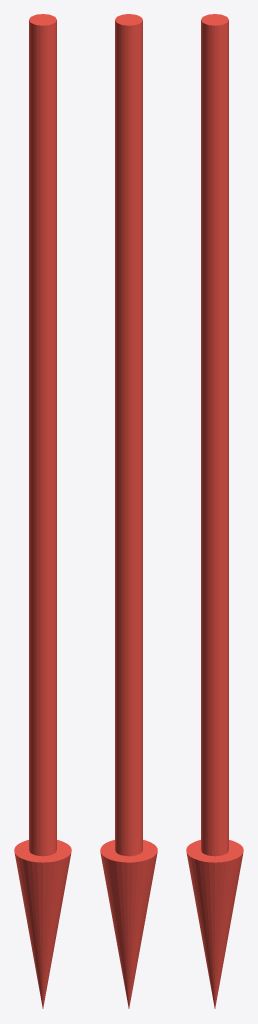
File: Axis 1_CO2.gltf
3 renders of one model, left to right at view 1: azimuth 90°, elevation 25°; view 2: azimuth 210°, elevation 25°; view 3: azimuth 270°, elevation 25°, orthographic.
Visible parts, largest first — view 1: Eje_Cono.001_Eje_Cono.014; view 2: Eje_Cono.001_Eje_Cono.014; view 3: Eje_Cono.001_Eje_Cono.014.
Boxes of the visible parts, left/top/right/bottom form: Eje_Cono.001_Eje_Cono.014: left=14, top=14, right=71, bottom=1008; Eje_Cono.001_Eje_Cono.014: left=100, top=14, right=157, bottom=1008; Eje_Cono.001_Eje_Cono.014: left=186, top=14, right=243, bottom=1008.
Bounding box in the file's own units: 0.1508 × 2.86 × 0.1508.
